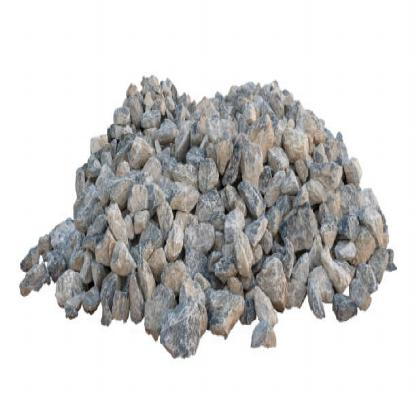Sedimentary_Limestone: (158, 290, 203, 359), (247, 300, 281, 362), (173, 222, 219, 264), (282, 125, 315, 170), (168, 182, 204, 220), (197, 161, 224, 211), (107, 200, 135, 241), (128, 134, 153, 172), (160, 220, 183, 257), (210, 144, 239, 172)
